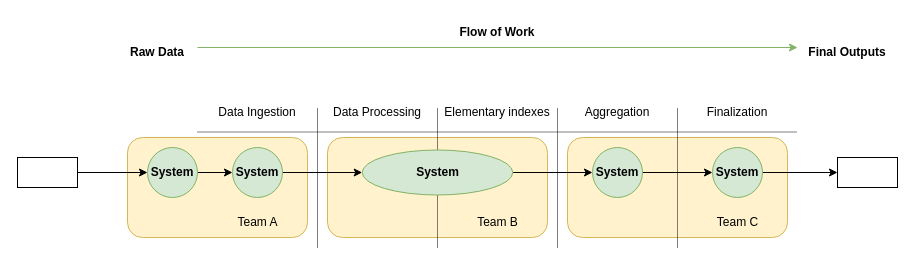
This 915x266 diagram has some shape labels left out. The centre of each missing label's shape, as x and y in pixels:
"CPI" belongs at pixel 867 172.
"Input" belongs at pixel 47 172.
